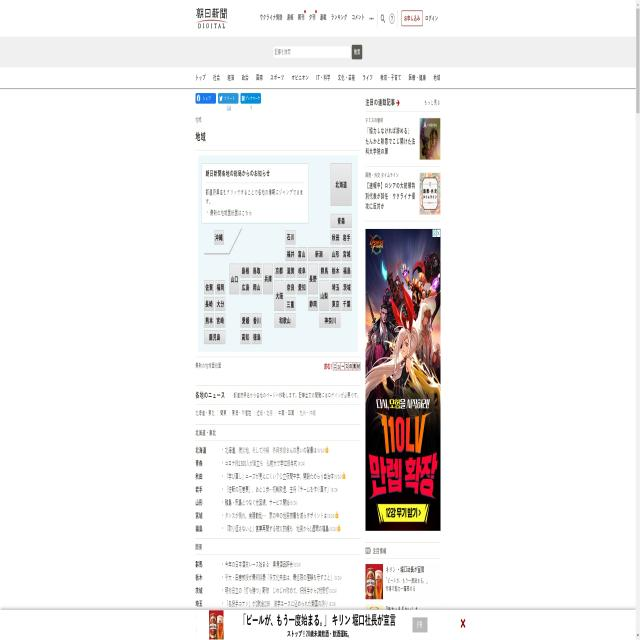menu-bar: (253, 4, 440, 34)
search: (274, 46, 366, 60)
side-panel: (363, 89, 439, 225)
tab-bar: (190, 66, 446, 86)
